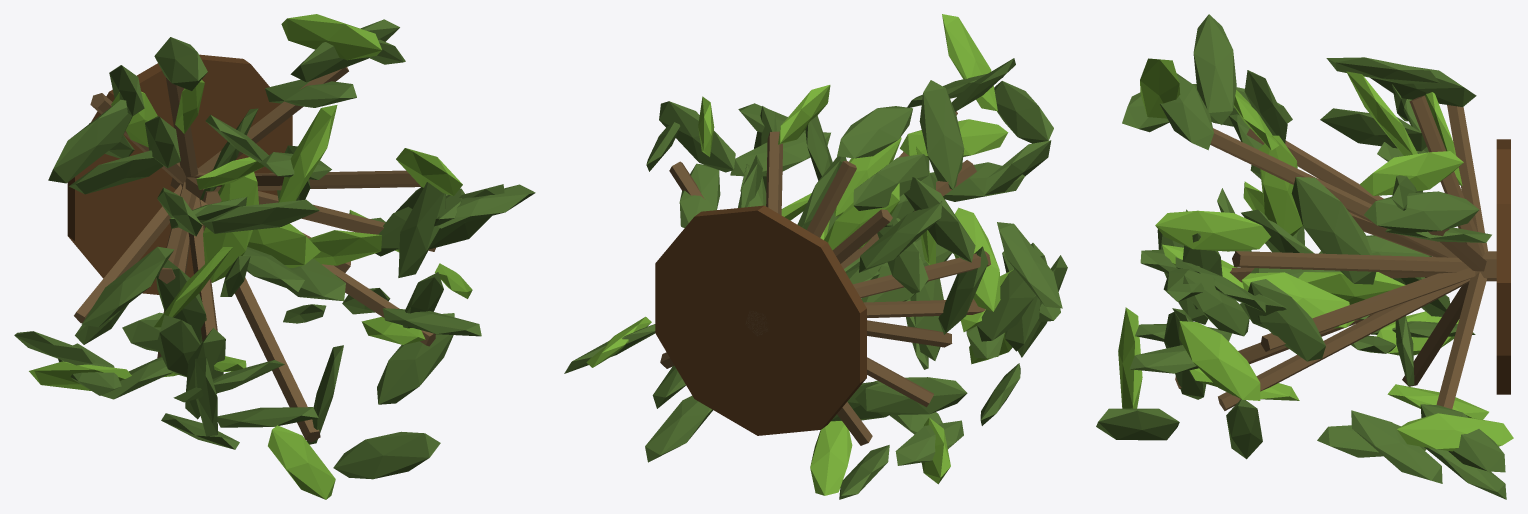
Rendered from 1_sapling.obj.
3 renders of one model, left to right at view 1: azimuth 30°, elevation 25°; view 2: azimuth 150°, elevation 25°; view 3: azimuth 270°, elevation 25°, orthographic. The views are drawn at different scales.
Parts seen in each view (by area): view 1: redberry_1_sapling; view 2: redberry_1_sapling; view 3: redberry_1_sapling.
Boxes of the visible parts, left/top/right/bottom form: redberry_1_sapling: left=14, top=14, right=535, bottom=499; redberry_1_sapling: left=564, top=14, right=1067, bottom=499; redberry_1_sapling: left=1096, top=14, right=1513, bottom=499.
Size of the model in its own units: 0.1988 by 0.1861 by 0.1735.
